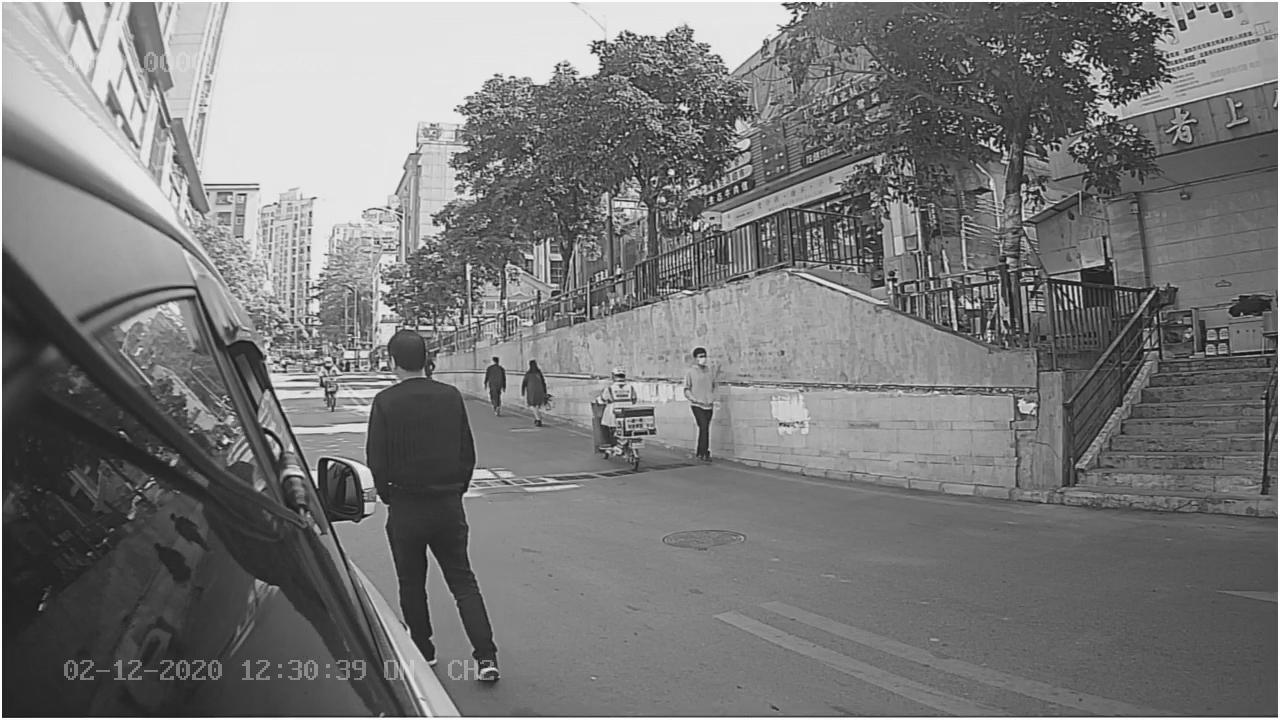person: (359, 328, 479, 460)
